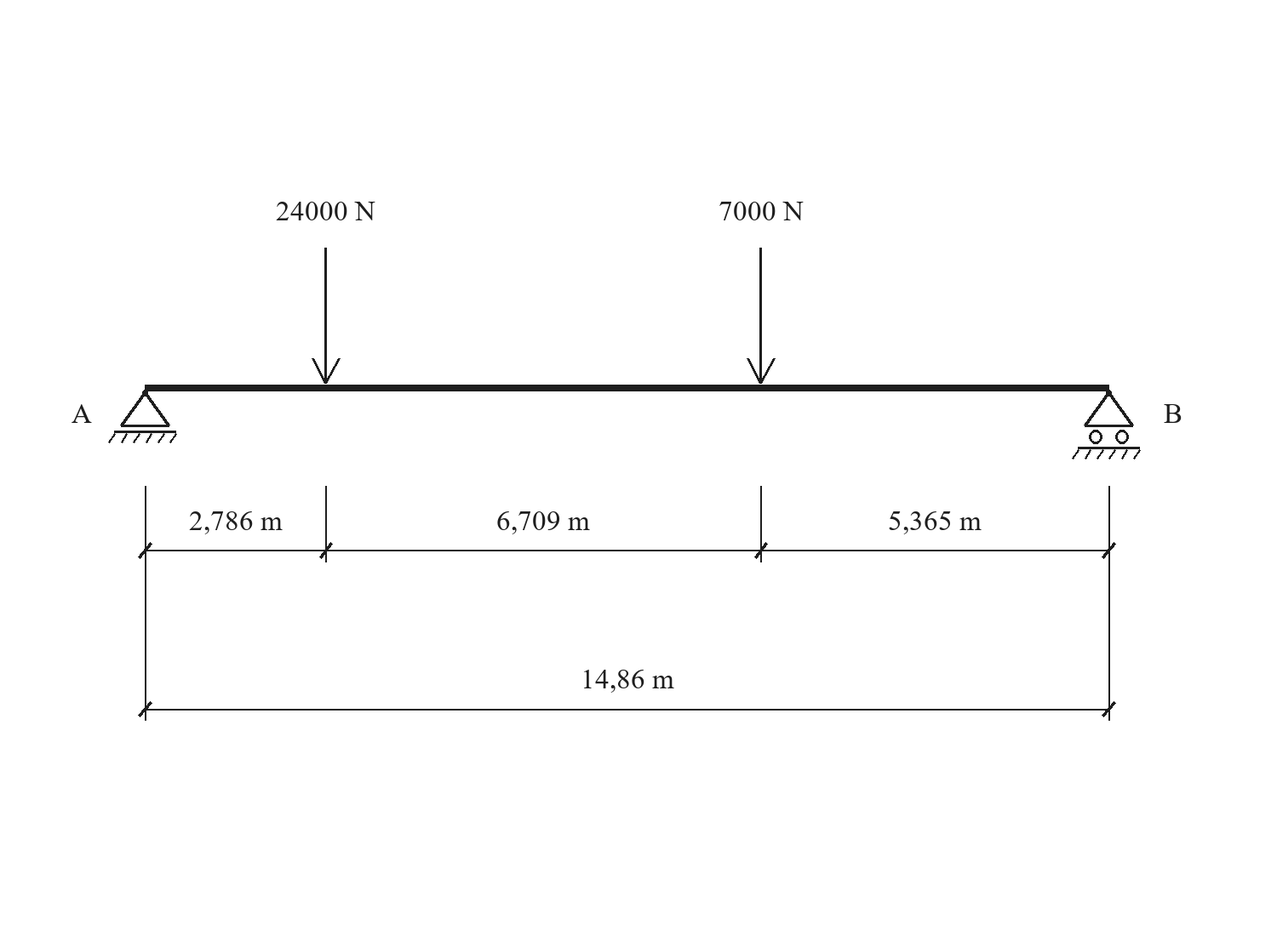pin_support: (108, 390, 177, 443)
point_load: (312, 248, 341, 384), (747, 248, 776, 384)
roller_support: (1072, 390, 1141, 459)
